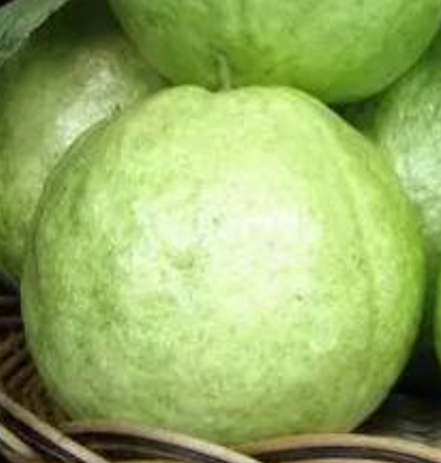guava_A: (21, 83, 424, 448)
